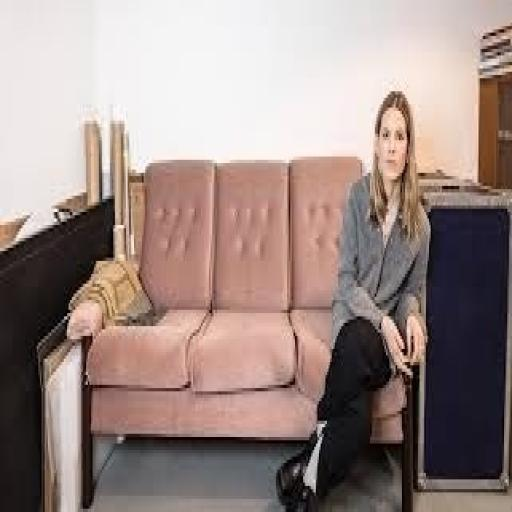sitting: (273, 85, 432, 509)
